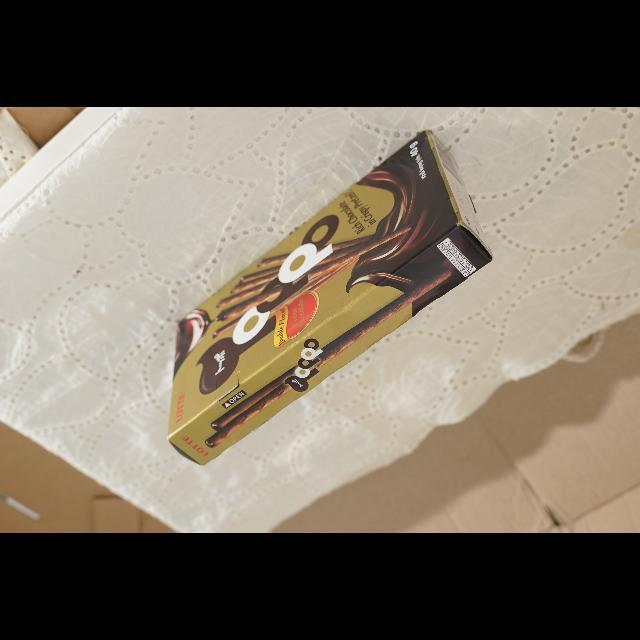banh_toppo_socola: (167, 132, 492, 465)
